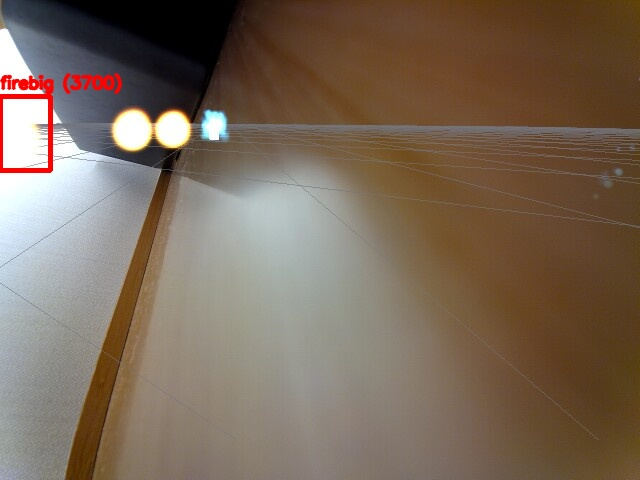firebig: (0, 96, 50, 170)
